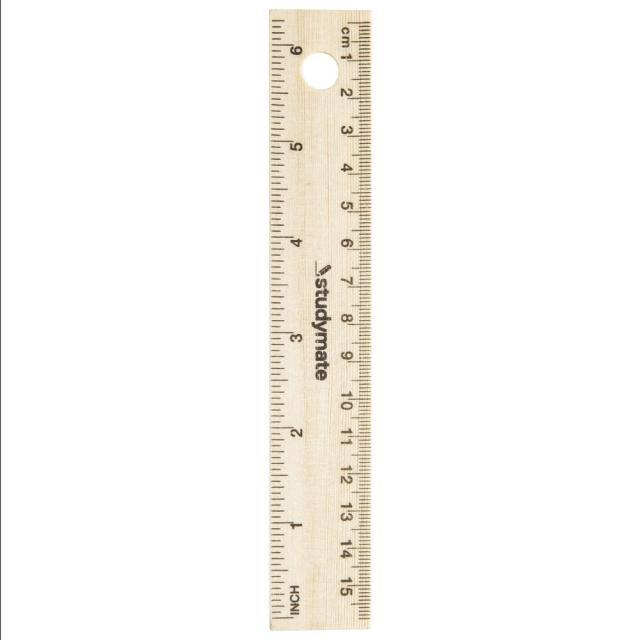Ruler: (242, 0, 393, 636)
